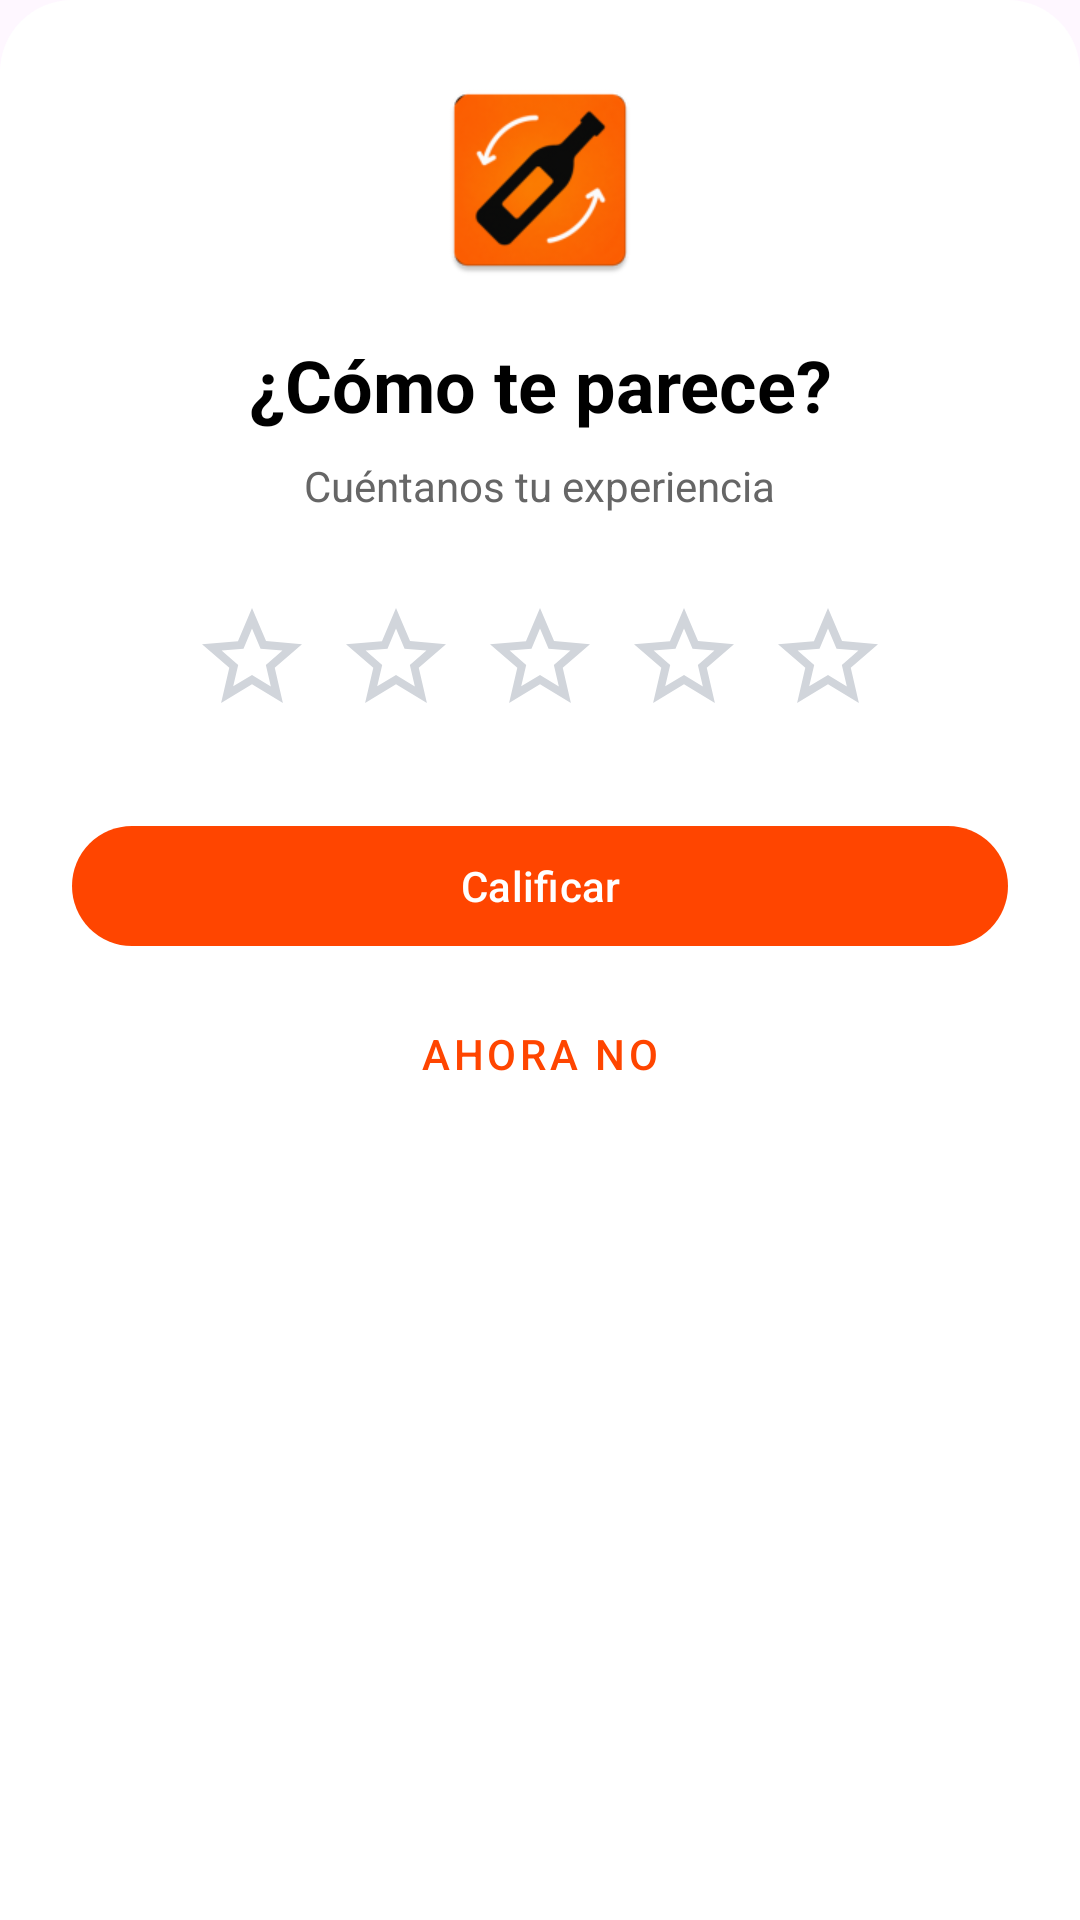

Icons on this 1080px×1920px Android screen, each with its box as (x1, y1, x2, y2):
Estrella 1: (203, 609, 301, 703)
Estrella 2: (347, 609, 445, 703)
Estrella 3: (491, 609, 589, 703)
Estrella 4: (635, 609, 733, 703)
Estrella 5: (779, 609, 877, 703)
